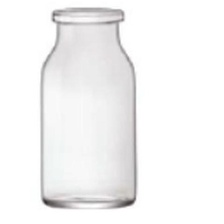bottle: (33, 3, 144, 215)
